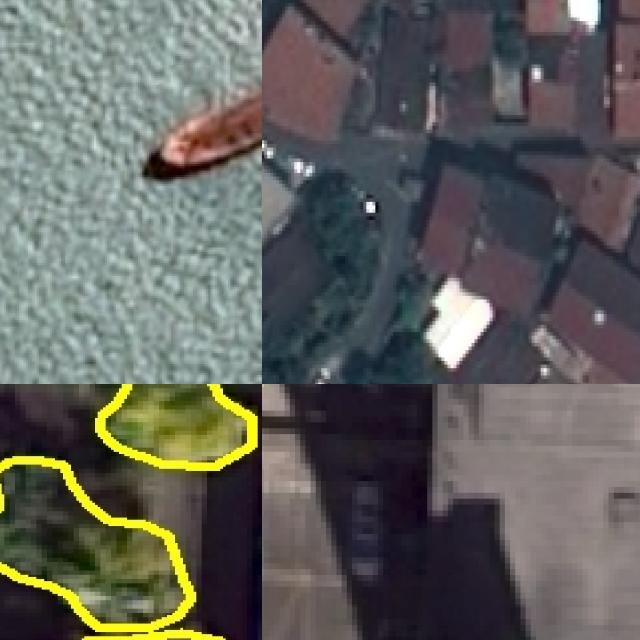trees: (1, 459, 223, 640), (263, 174, 379, 385), (99, 385, 253, 468), (343, 333, 430, 385)
